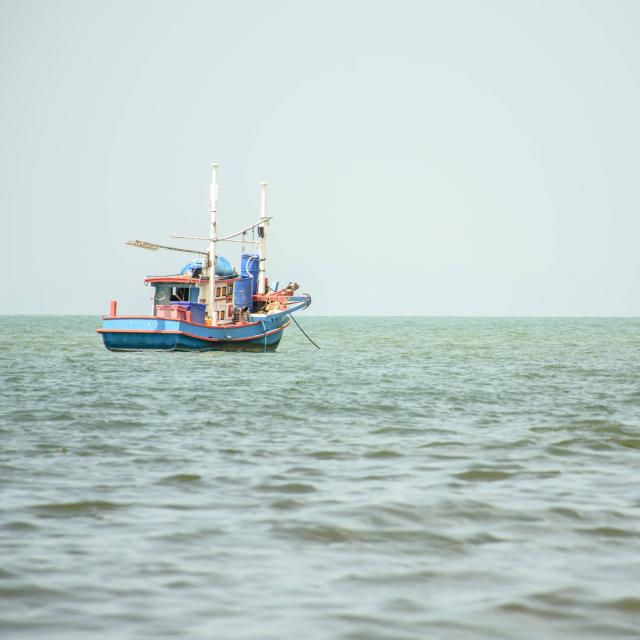Fishing Boat: (23, 130, 439, 352)
